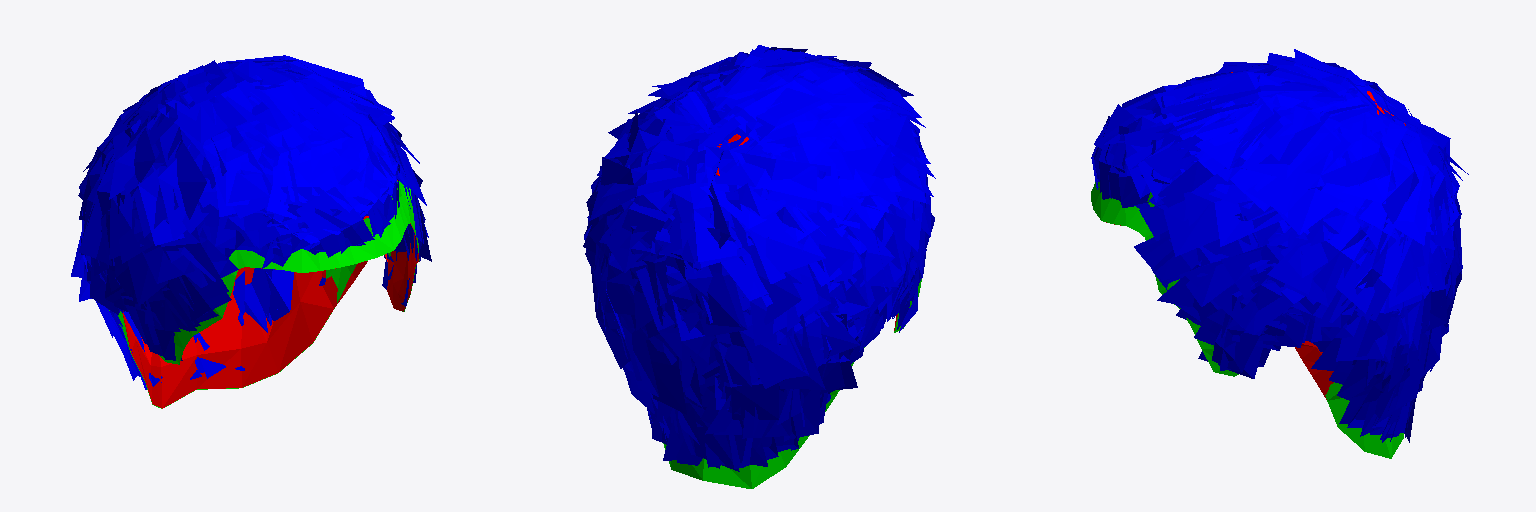
The model's file is hair_010.obj.
3 views of the same model, side by side, from view 1: azimuth 30°, elevation 25°; view 2: azimuth 150°, elevation 25°; view 3: azimuth 270°, elevation 25° (orthographic).
Bounding box in the file's own units: 18.65 × 21.69 × 20.22.